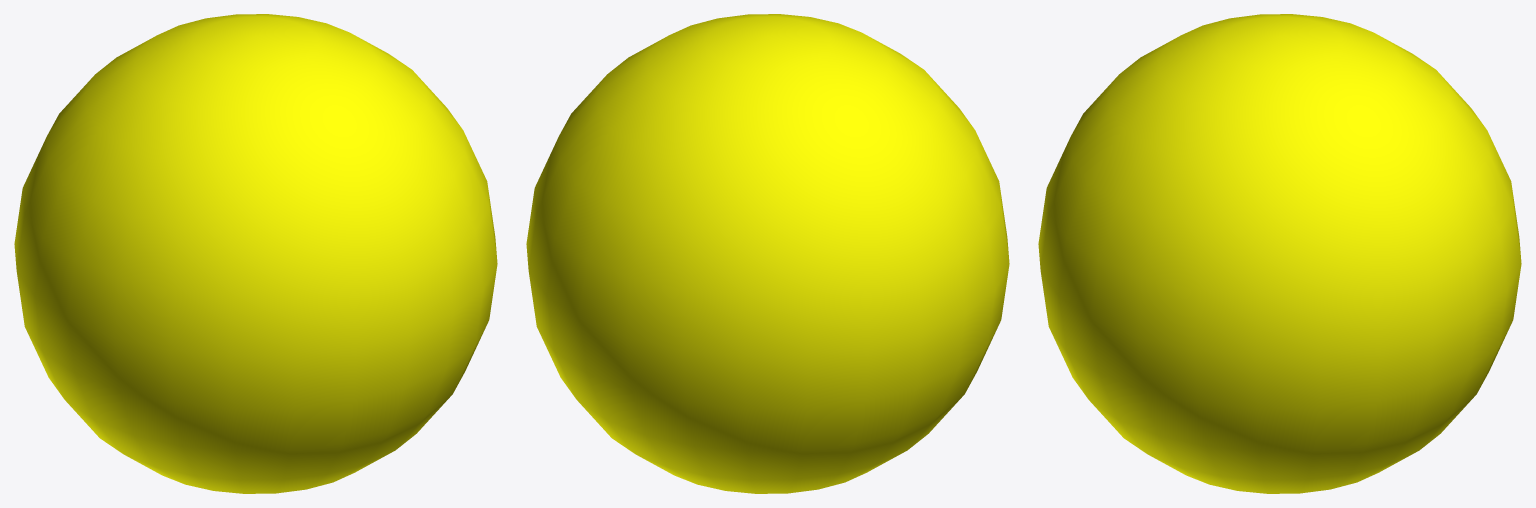
3 renders of one model, left to right at view 1: azimuth 30°, elevation 25°; view 2: azimuth 150°, elevation 25°; view 3: azimuth 270°, elevation 25°, orthographic.
Visible parts, largest first — view 1: Component_1; view 2: Component_1; view 3: Component_1.
Part boxes in pixels (x1,y1,x2,y2): Component_1: [14, 14, 497, 493]; Component_1: [526, 14, 1009, 493]; Component_1: [1038, 14, 1521, 493].
Bounding box in the file's own units: 101 × 101 × 101.
